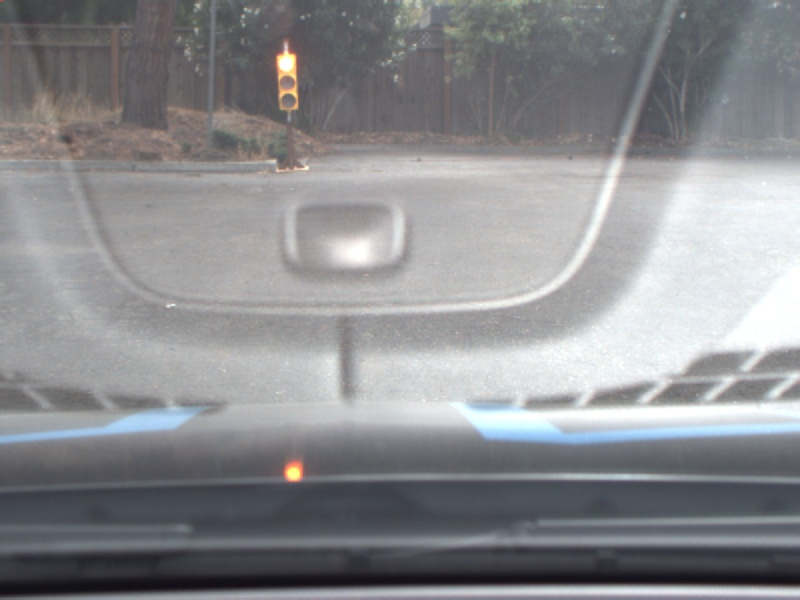red: (273, 50, 302, 111)
